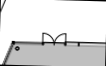double door: (40, 31, 67, 45)
